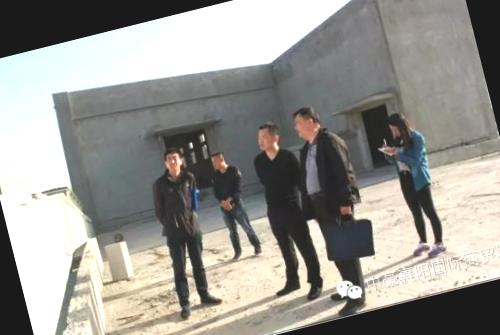no_helmet: (286, 102, 323, 142), (251, 118, 284, 158), (159, 142, 190, 182), (385, 107, 414, 141), (206, 146, 230, 172)
